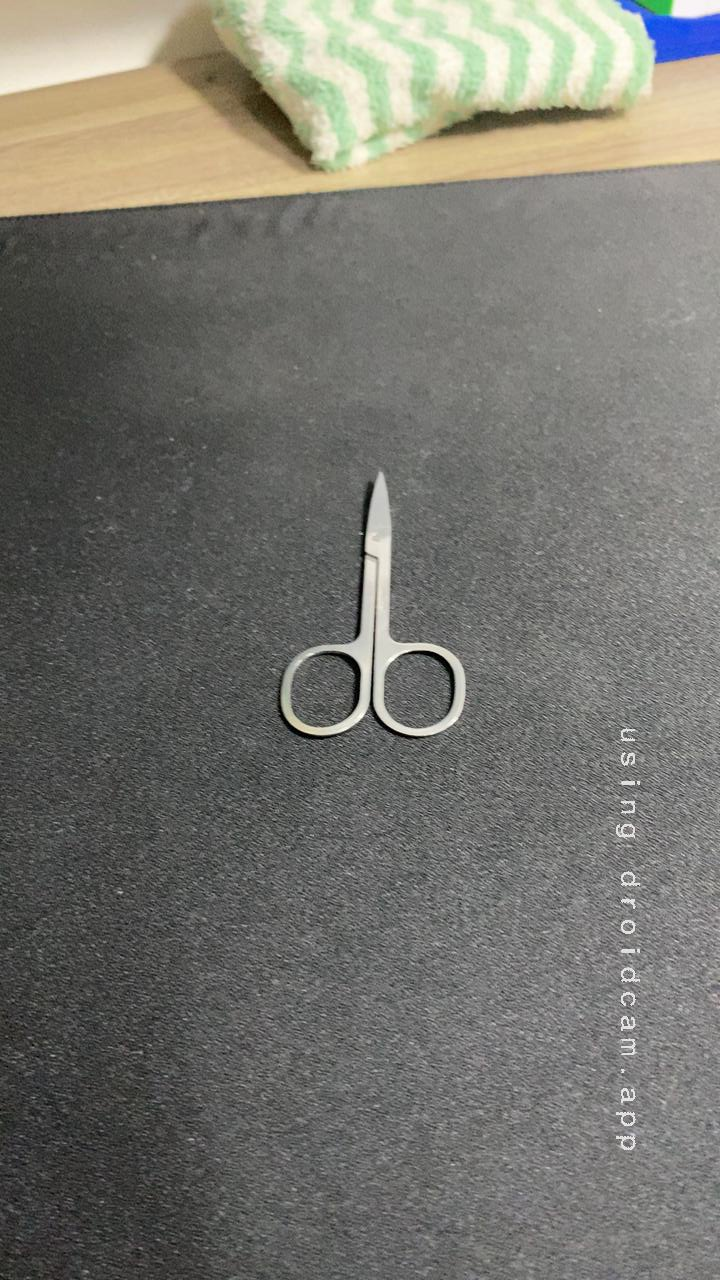scissor: (258, 455, 488, 749)
